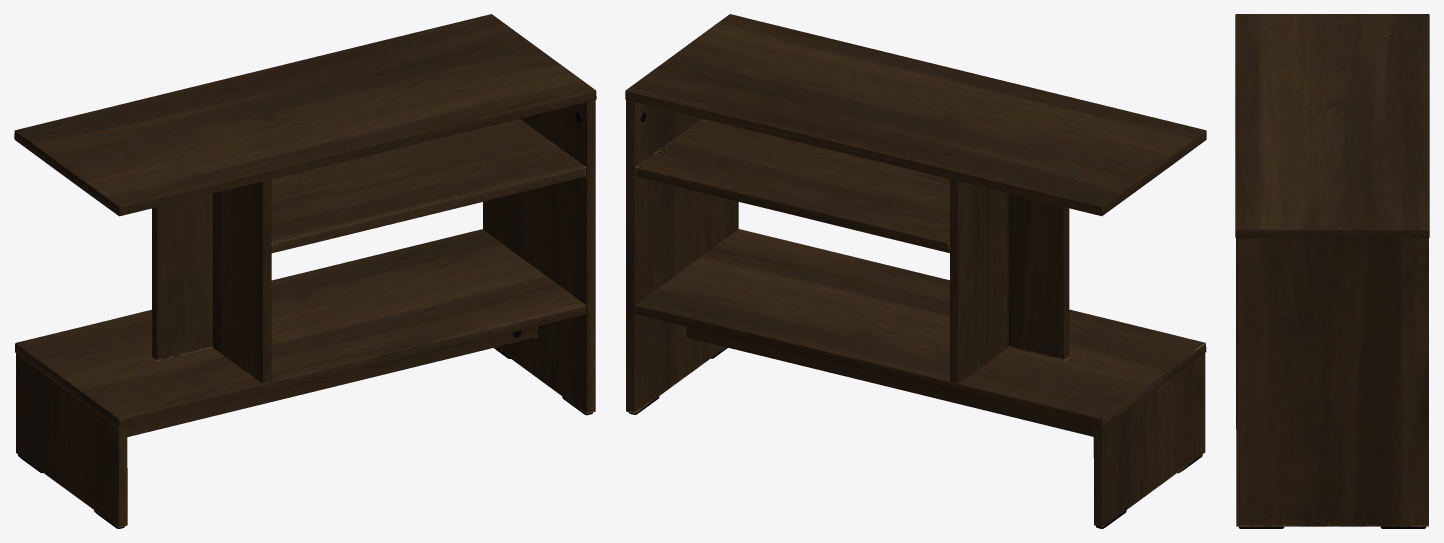
Rendered from 02 - HOLMERUD Side table - dark brown 80x31 cm.glb.
3 views of the same model, side by side, from view 1: azimuth 30°, elevation 25°; view 2: azimuth 150°, elevation 25°; view 3: azimuth 270°, elevation 25° (orthographic). The views are drawn at different scales.
Visible parts, largest first — view 1: 20538721-HOLMERUD001; view 2: 20538721-HOLMERUD001; view 3: 20538721-HOLMERUD001.
Part boxes in pixels (<box>): 20538721-HOLMERUD001: <box>14,14,596,528</box>; 20538721-HOLMERUD001: <box>625,14,1206,528</box>; 20538721-HOLMERUD001: <box>1235,14,1429,528</box>.
Bounding box in the file's own units: 0.805 × 0.523 × 0.307.
1 material, 1 textured.
